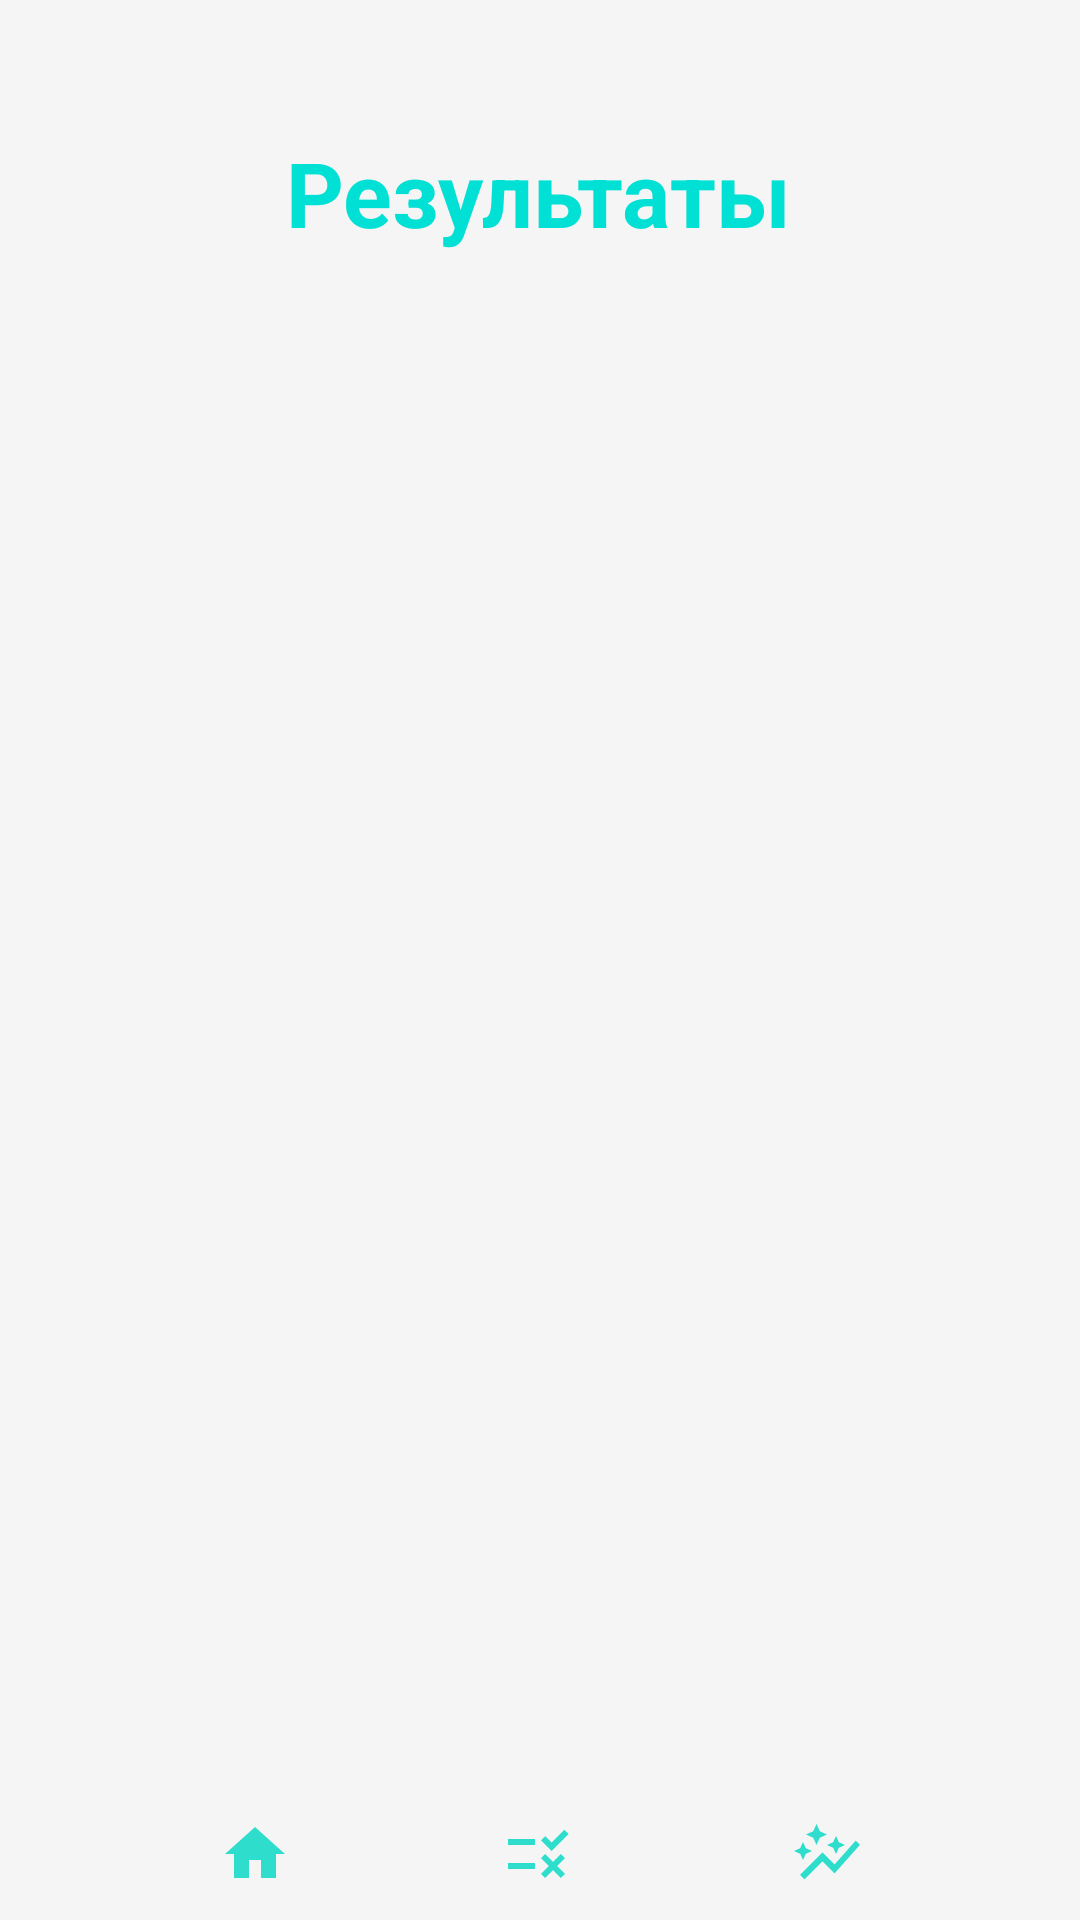

Named icons in this screenshot (1080 x 1920) and their bounding boxes, (x1, y1, x2, y2):
auto graph: (794, 1824, 860, 1880)
home: (225, 1827, 285, 1878)
rule: (508, 1830, 569, 1878)
